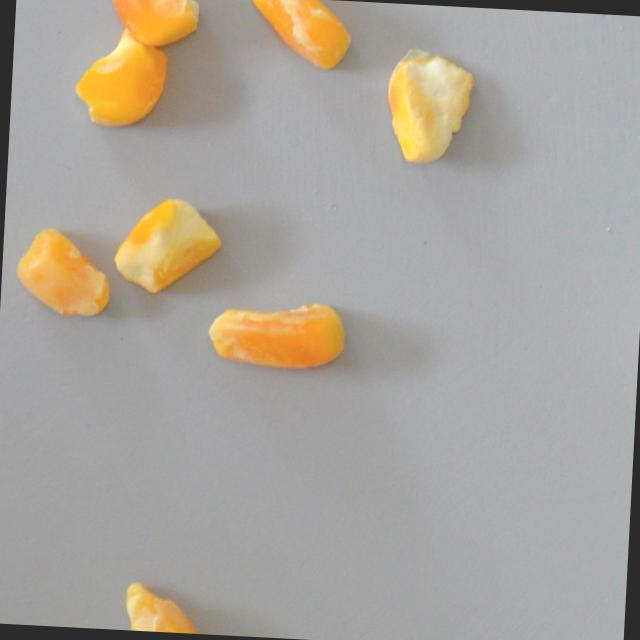dañado: (203, 288, 353, 375), (381, 43, 481, 172), (111, 189, 228, 299), (10, 220, 119, 325), (72, 24, 177, 132), (241, 0, 357, 76), (93, 0, 207, 51)
pelicula: (122, 577, 206, 634)
